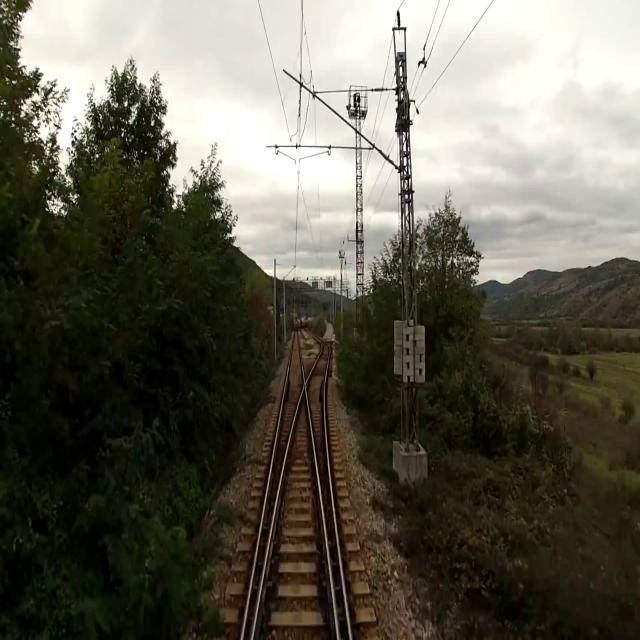rail-track: (253, 393, 336, 639), (244, 333, 303, 639), (307, 343, 348, 639)
